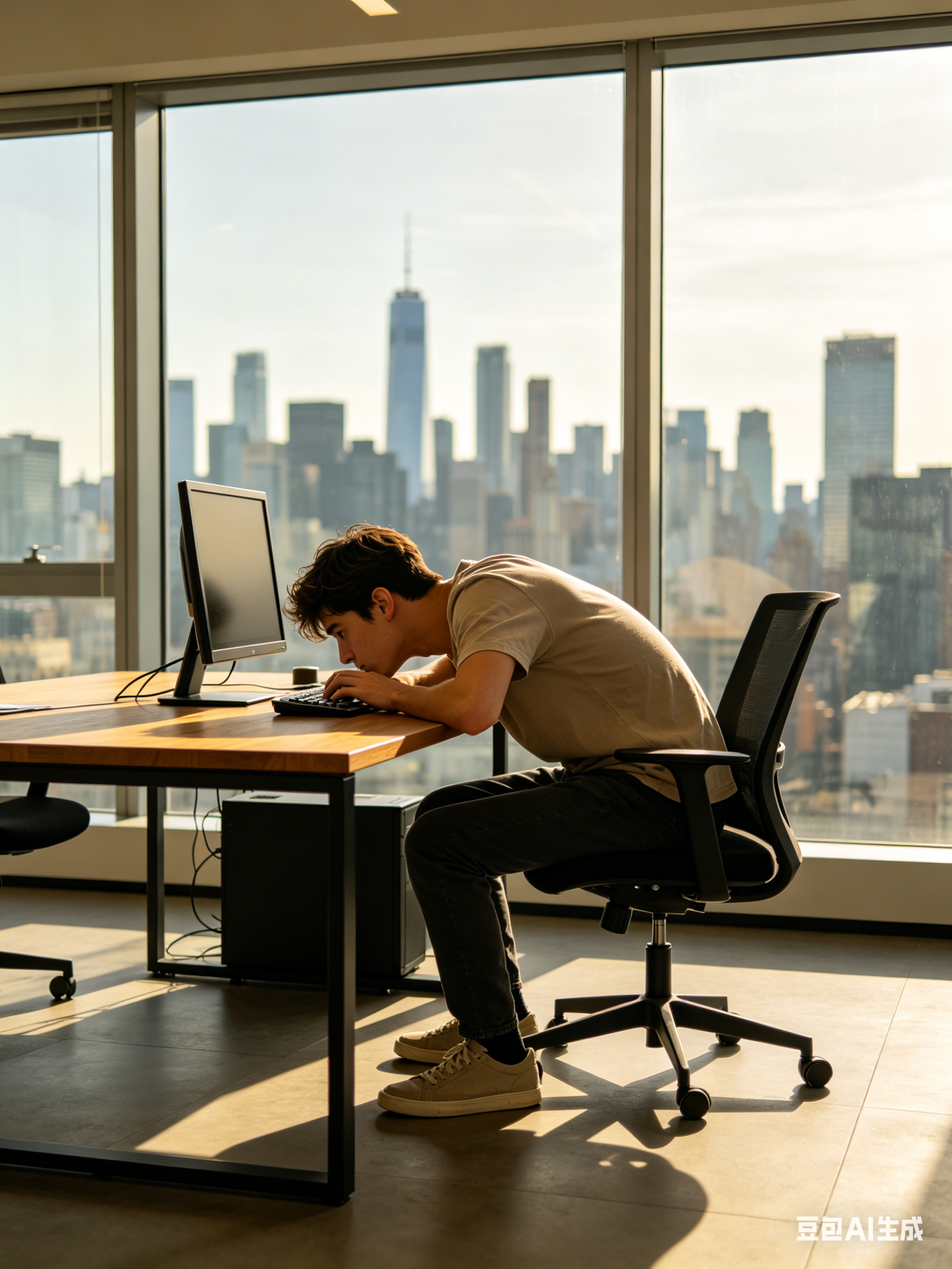sitting_bad: (326, 557, 715, 1091)
